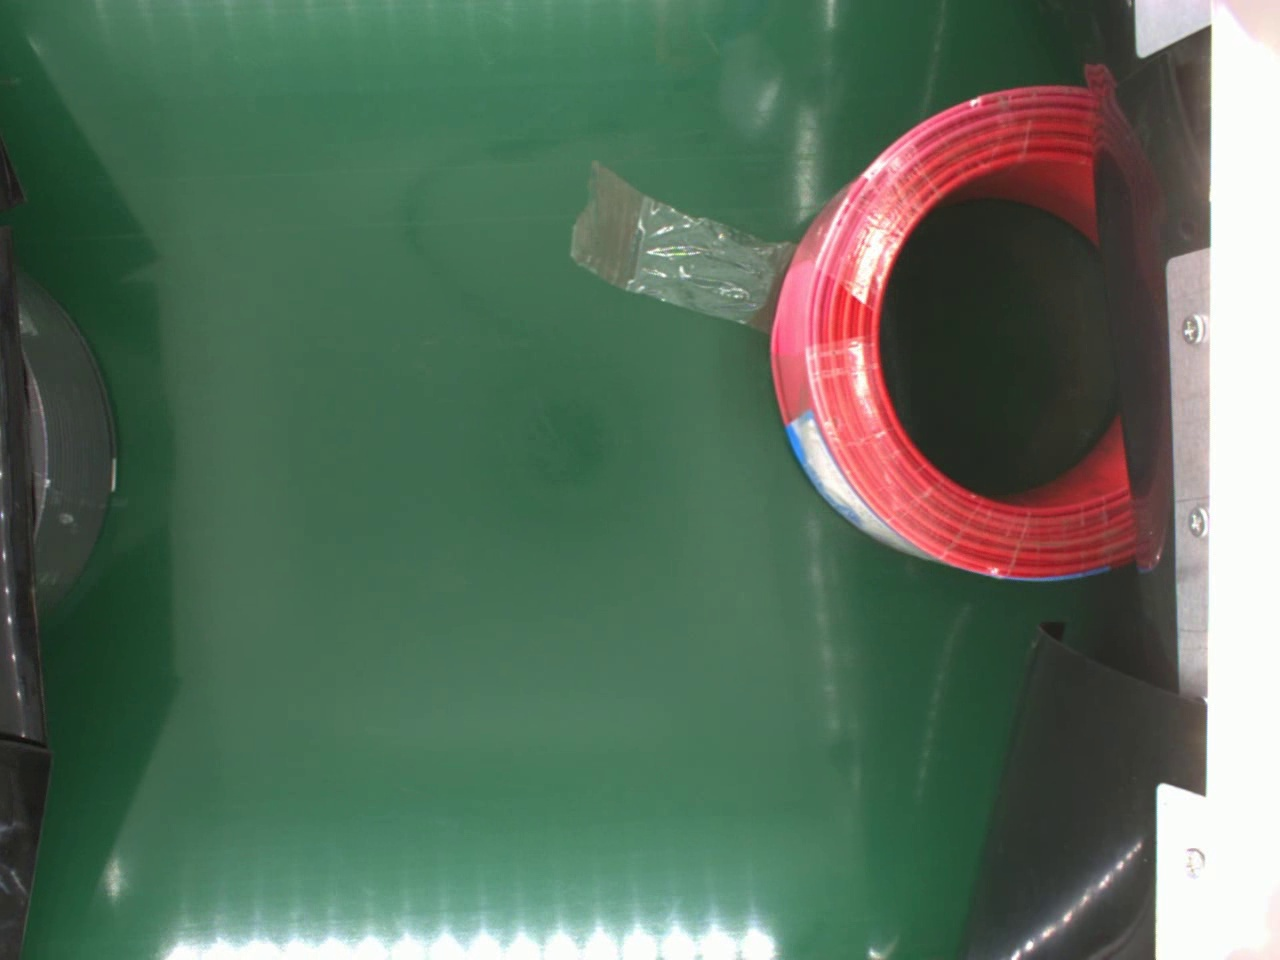red: (767, 77, 1137, 584)
